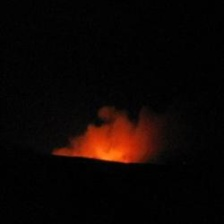fire: (82, 143, 137, 164)
